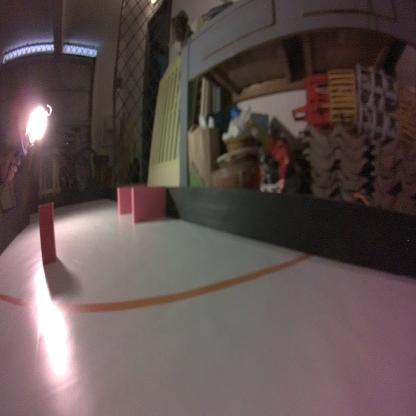magenta: (129, 184, 167, 221), (116, 184, 147, 214)
red: (37, 200, 56, 265)
